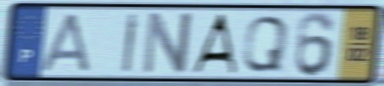6: (293, 9, 337, 80)
A: (38, 11, 93, 74), (187, 12, 239, 76)
I: (120, 11, 142, 74)
N: (139, 9, 195, 77)
Q: (240, 14, 291, 74)
